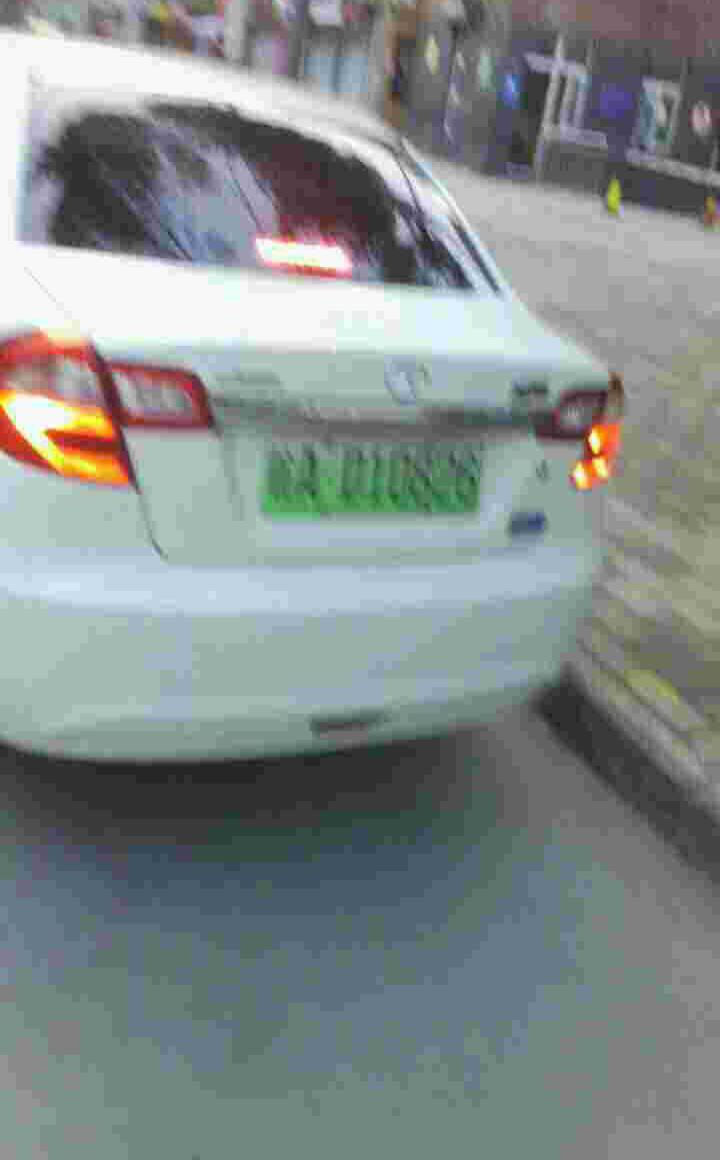car_id: (259, 438, 484, 511)
